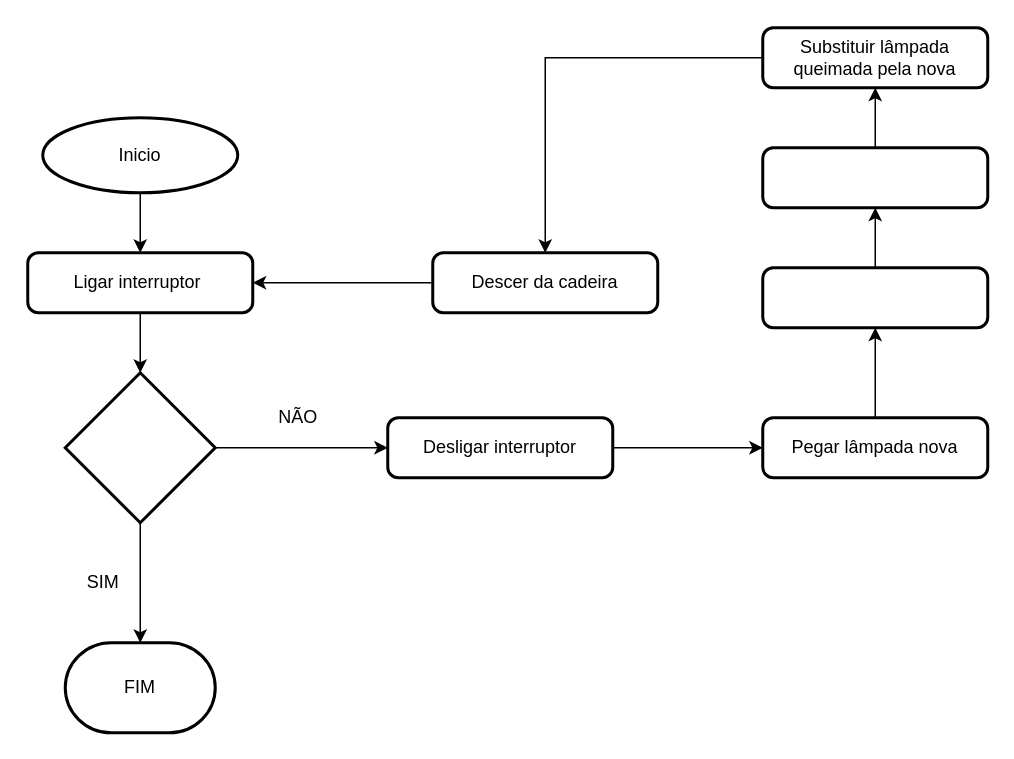
This 1014x759 diagram has some shape labels left out. The box of each missing label's shape, as (x1, y1, x2, y2) in pixels:
ligou?: (63, 370, 216, 524)
Puxar cadeira: (760, 266, 988, 328)
Subir na cadeira: (760, 146, 988, 208)
